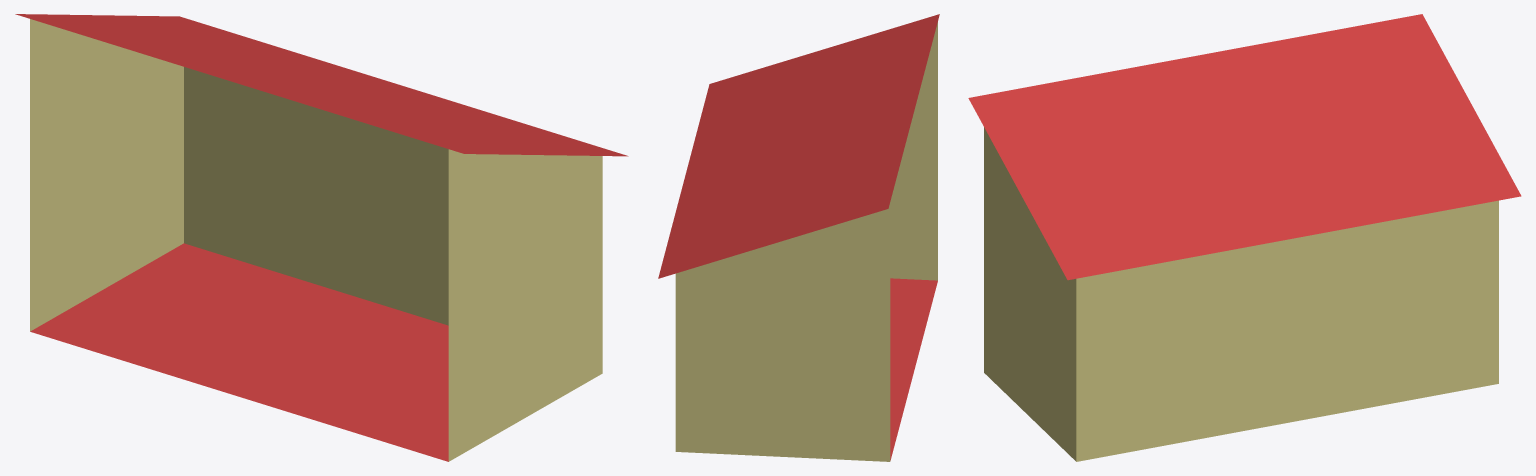
The picture shows the model from 3 angles, left to right: view 1: azimuth 30°, elevation 25°; view 2: azimuth 150°, elevation 25°; view 3: azimuth 270°, elevation 25°; orthographic projection. The views are drawn at different scales.
Size of the model in its own units: 12.41 by 16.14 by 8.93.
